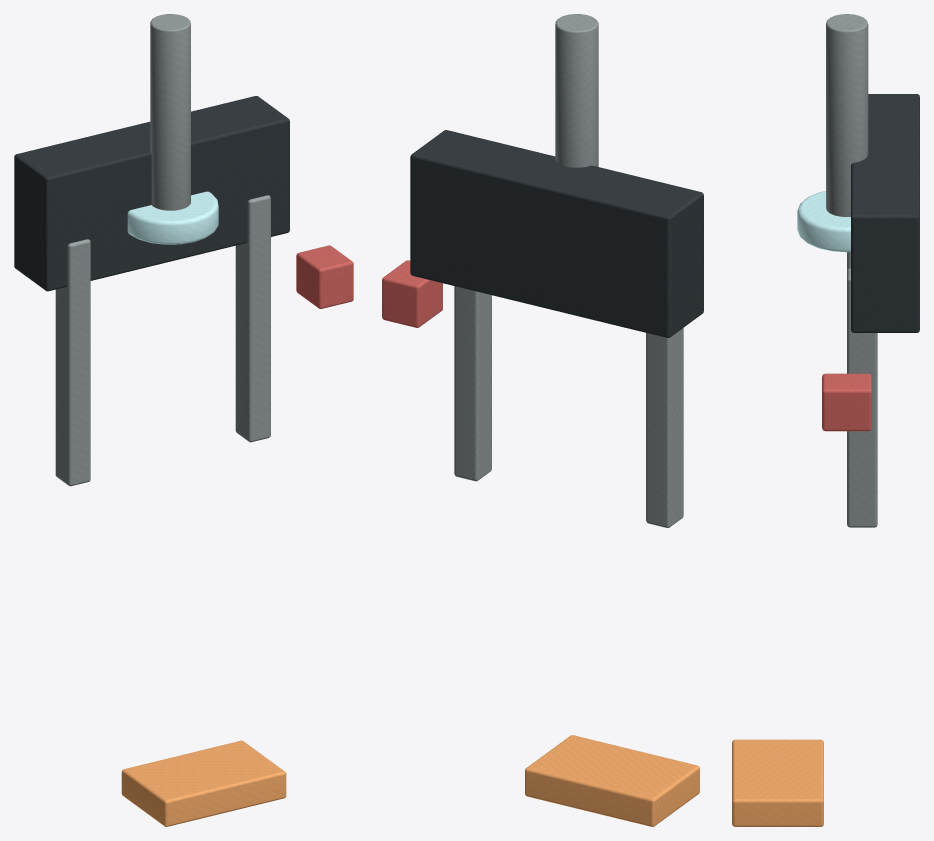
File: ChemicalSafetyShower.glb
3 renders of one model, left to right at view 1: azimuth 30°, elevation 25°; view 2: azimuth 150°, elevation 25°; view 3: azimuth 270°, elevation 25°, orthographic. The views are drawn at different scales.
Visible parts, largest first — view 1: ChemicalSafetyShower_Mesh; view 2: ChemicalSafetyShower_Mesh; view 3: ChemicalSafetyShower_Mesh.
Part boxes in pixels (bbox=[...]): ChemicalSafetyShower_Mesh: bbox=[14, 14, 353, 826]; ChemicalSafetyShower_Mesh: bbox=[382, 14, 703, 826]; ChemicalSafetyShower_Mesh: bbox=[732, 14, 919, 826].
Size of the model in its own units: 0.915 by 2.23 by 0.49.
Materials: 5 (5 with a texture image).
